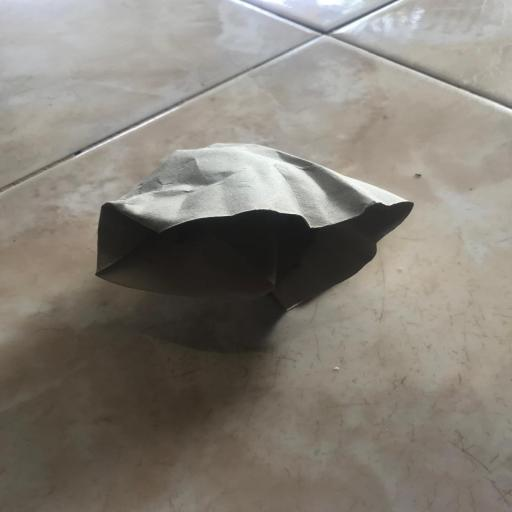waste: (77, 139, 444, 325)
